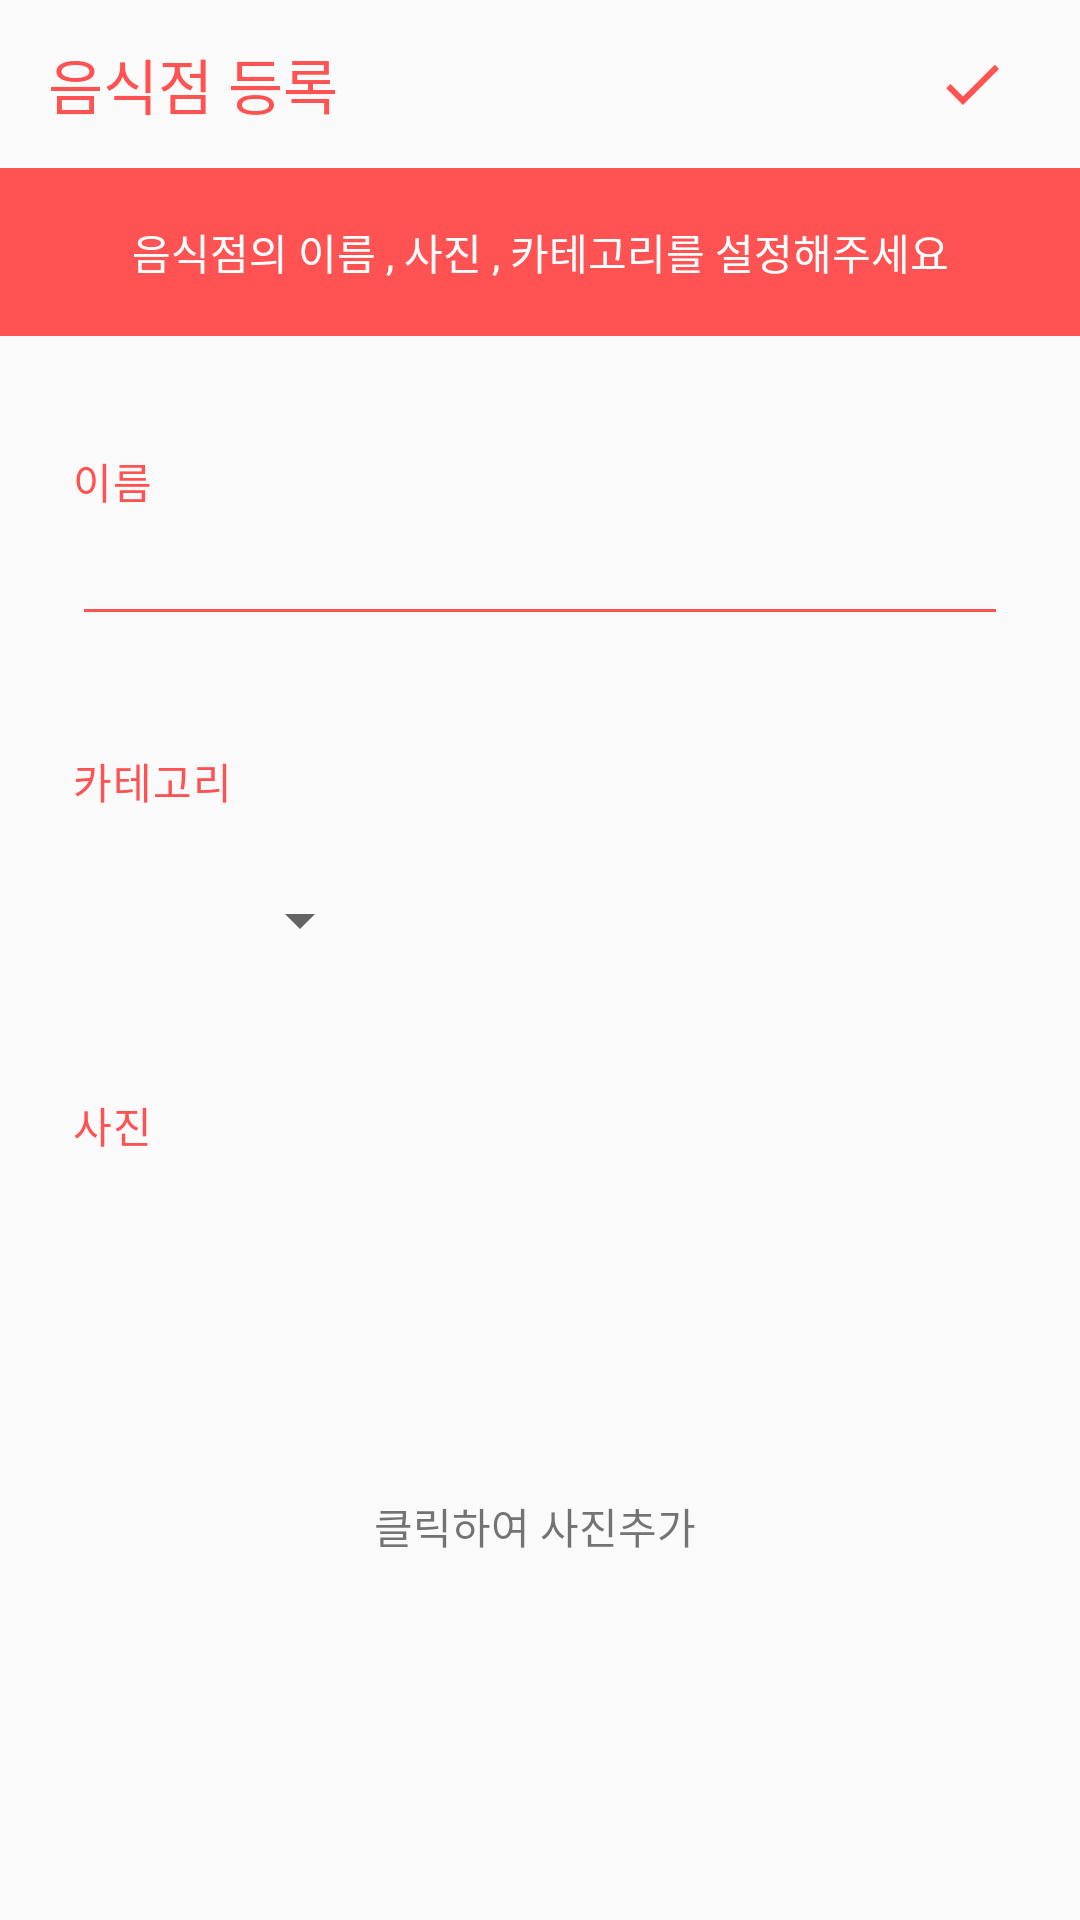

Named icons in this screenshot (1080×1920) and their centers, (x,y):
check: (972,85)
